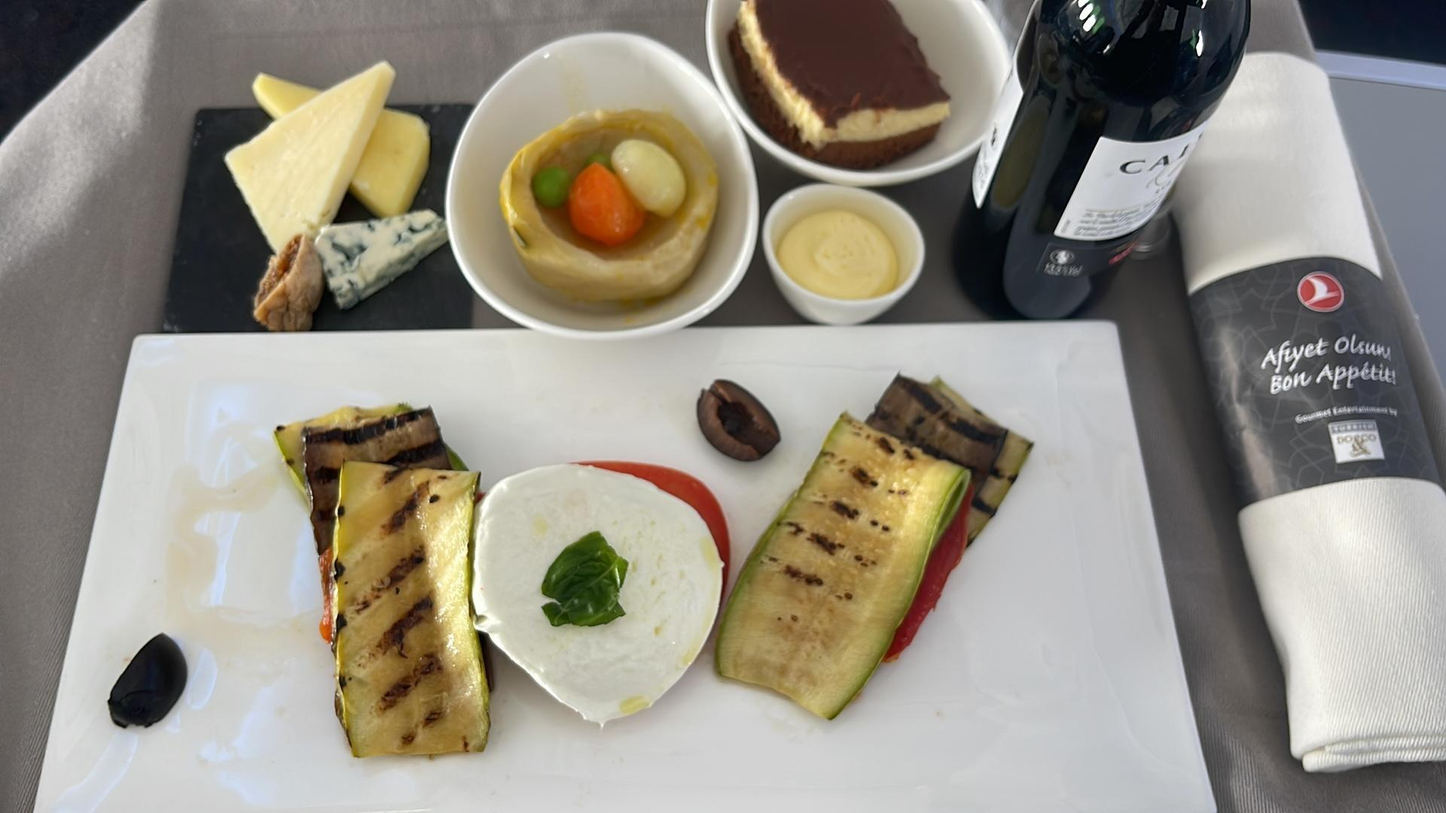eggplant: (869, 376, 1010, 467), (297, 402, 456, 466)
pea: (529, 162, 571, 207)
vegetable marrow: (712, 406, 958, 715), (324, 456, 494, 763)
